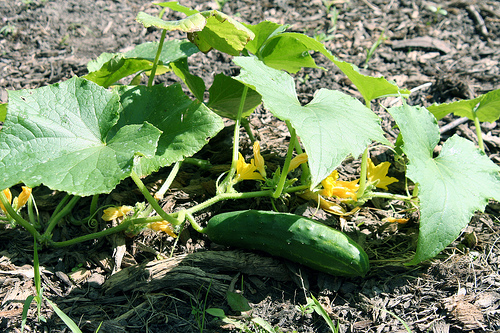cucumber: (199, 202, 386, 281)
